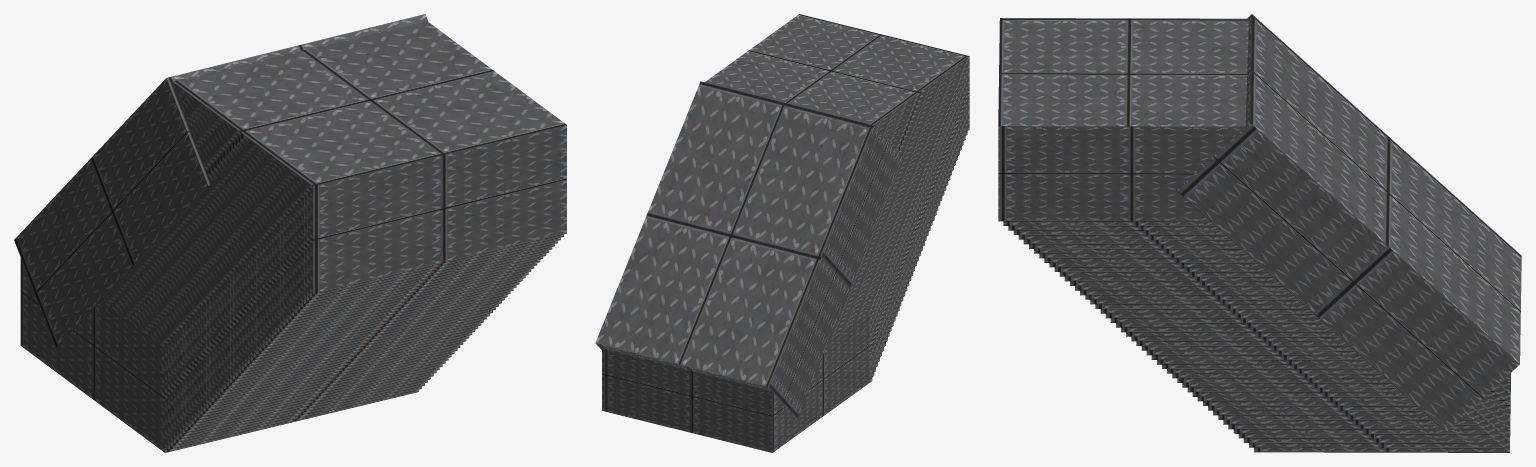
File: Slope.gltf
3 views of the same model, side by side, from view 1: azimuth 30°, elevation 25°; view 2: azimuth 150°, elevation 25°; view 3: azimuth 270°, elevation 25° (orthographic). The views are drawn at different scales.
Visible parts, largest first — view 1: 立方体.001, COL2, 立方体.051, 立方体.003, 立方体.004, 立方体.002, 立方体.005, 立方体.006, 立方体.007, 立方体.008, 立方体.009, 立方体.010 (+40 smaller); view 2: COL2, 立方体.001, 立方体.051, 立方体.002, 立方体.003, 立方体.004, 立方体.005, 立方体.006, 立方体.012, 立方体.007, 立方体.011, 立方体.008 (+25 smaller); view 3: COL2, 立方体.001, 立方体.051, 立方体.050, 立方体.049, 立方体.047, 立方体.048, 立方体.046, 立方体.045, 立方体.044, 立方体.002, 立方体.004 (+40 smaller).
Boxes of the visible parts, left/top/right/bottom form: 立方体.001: left=172, top=21, right=566, bottom=294; COL2: left=14, top=14, right=428, bottom=347; 立方体.051: left=20, top=258, right=418, bottom=452; 立方体.003: left=178, top=96, right=560, bottom=300; 立方体.004: left=181, top=104, right=557, bottom=303; 立方体.002: left=175, top=89, right=563, bottom=297; 立方体.005: left=183, top=111, right=554, bottom=307; 立方体.006: left=186, top=119, right=552, bottom=310; 立方体.007: left=189, top=126, right=549, bottom=313; 立方体.008: left=192, top=134, right=546, bottom=316; 立方体.009: left=194, top=141, right=543, bottom=319; 立方体.010: left=197, top=148, right=540, bottom=322; COL2: left=595, top=81, right=902, bottom=418; 立方体.001: left=705, top=14, right=969, bottom=130; 立方体.051: left=602, top=308, right=872, bottom=452; 立方体.002: left=839, top=61, right=967, bottom=135; 立方体.003: left=845, top=66, right=965, bottom=140; 立方体.004: left=850, top=71, right=963, bottom=145; 立方体.005: left=856, top=76, right=961, bottom=150; 立方体.006: left=884, top=81, right=959, bottom=155; 立方体.012: left=894, top=106, right=950, bottom=180; 立方体.007: left=886, top=86, right=957, bottom=160; 立方体.011: left=896, top=111, right=948, bottom=185; 立方体.008: left=888, top=91, right=955, bottom=165; COL2: left=1176, top=14, right=1521, bottom=431; 立方体.001: left=998, top=18, right=1255, bottom=221; 立方体.051: left=1254, top=373, right=1510, bottom=452; 立方体.050: left=1249, top=379, right=1504, bottom=448; 立方体.049: left=1243, top=383, right=1499, bottom=443; 立方体.047: left=1233, top=393, right=1489, bottom=434; 立方体.048: left=1238, top=388, right=1494, bottom=438; 立方体.046: left=1228, top=397, right=1484, bottom=429; 立方体.045: left=1223, top=402, right=1479, bottom=425; 立方体.044: left=1218, top=407, right=1473, bottom=420; 立方体.002: left=1003, top=23, right=1260, bottom=226; 立方体.004: left=1013, top=33, right=1270, bottom=235.
Size of the model in its own units: 10.27 by 14.29 by 20.46.
